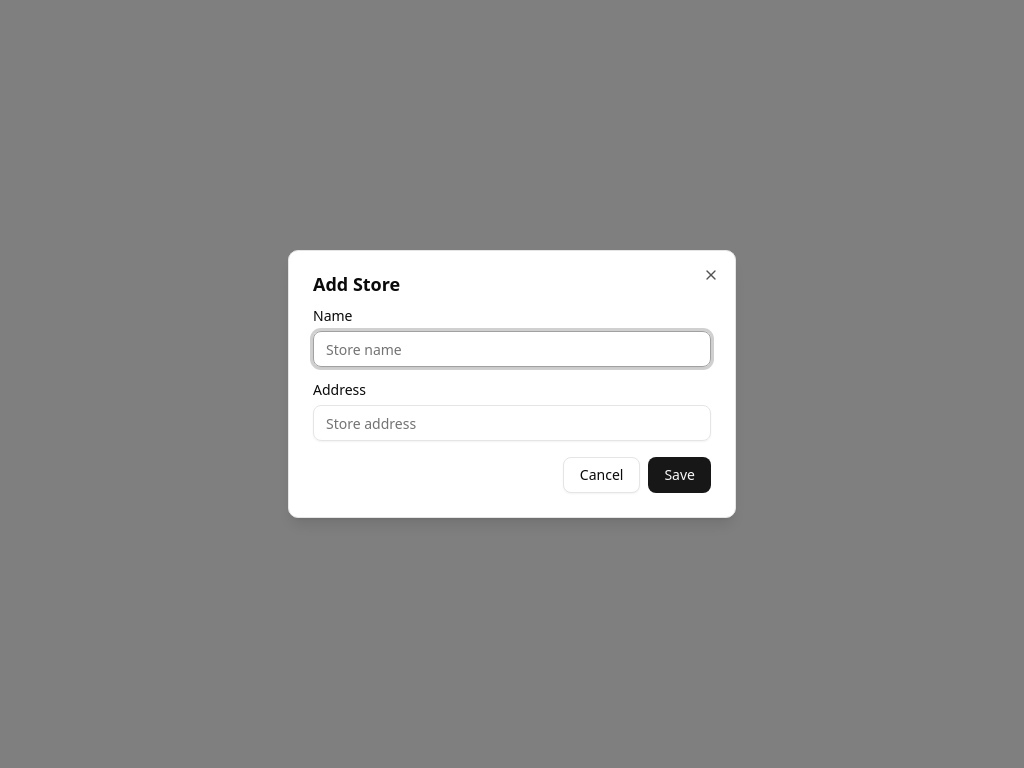
StoreFormDialog › shows validation errors for invalid input
The width and height of the screenshot is (1024, 768).
Click the button "Save": (680, 475) [648,457,711,493]
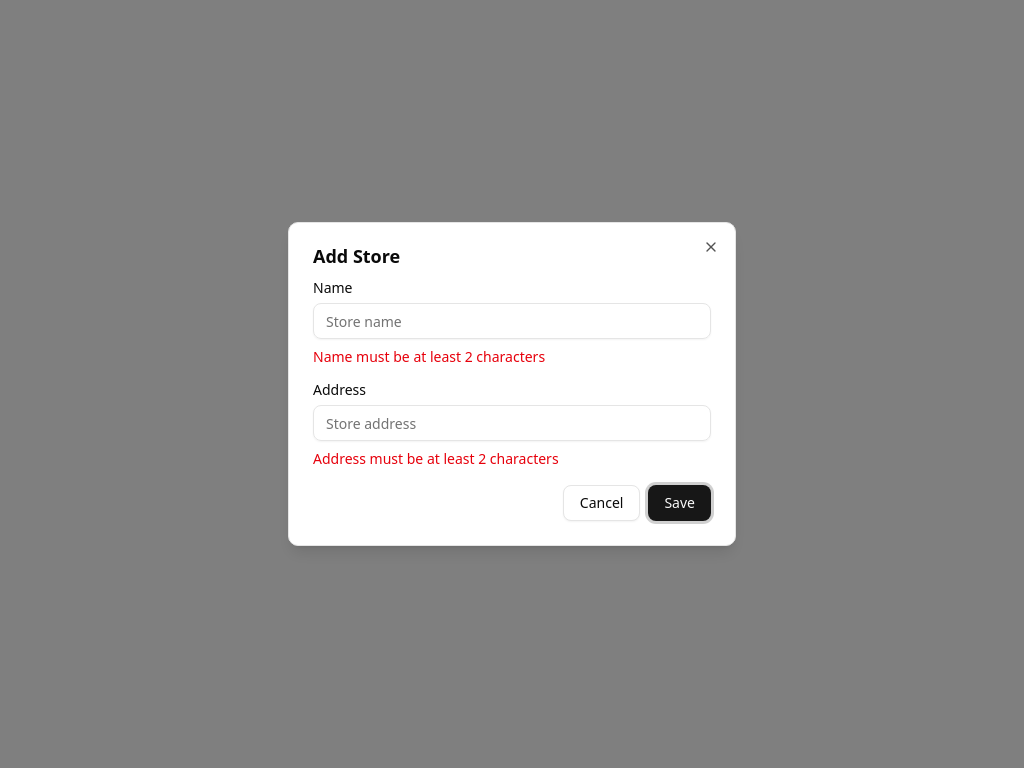
Result: the text "Name must be at least 2 characters" is shown at [313,347,545,366]
Result: the text "Address must be at least 2 characters" is shown at [313,449,559,468]
